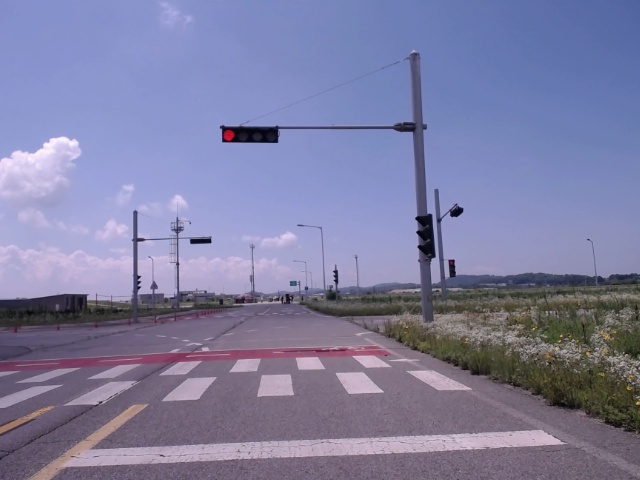red_4: (222, 126, 279, 143)
